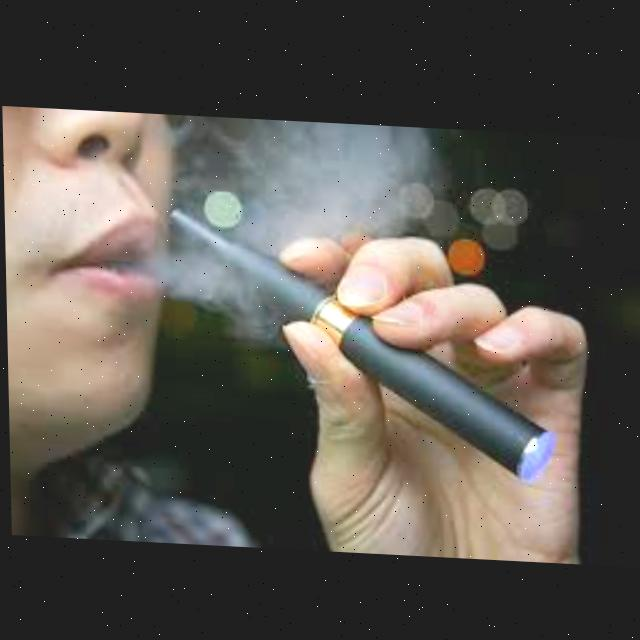vape: (164, 205, 559, 482)
